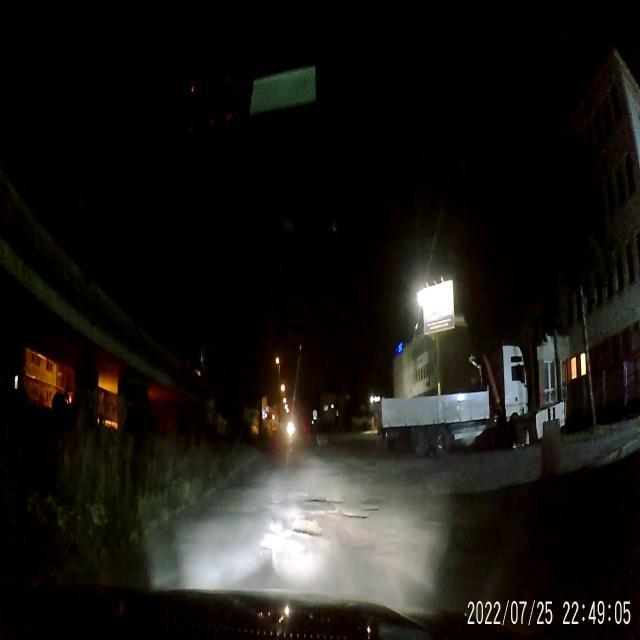Manhole: (362, 496, 386, 504)
Pothole: (291, 520, 327, 548), (307, 494, 343, 507), (342, 512, 369, 522), (362, 506, 382, 513)
